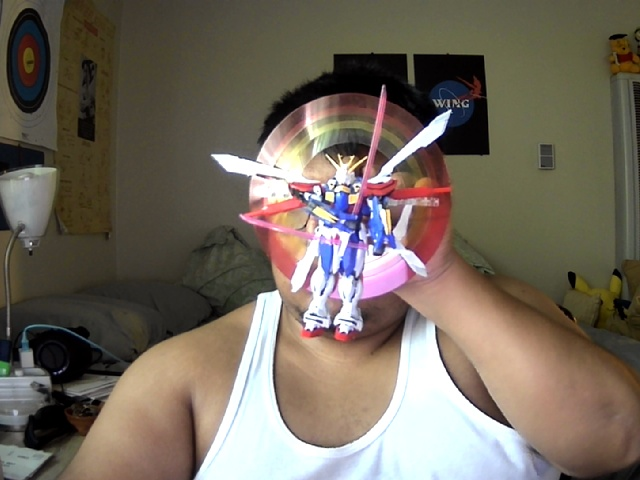God: (210, 92, 456, 343)
